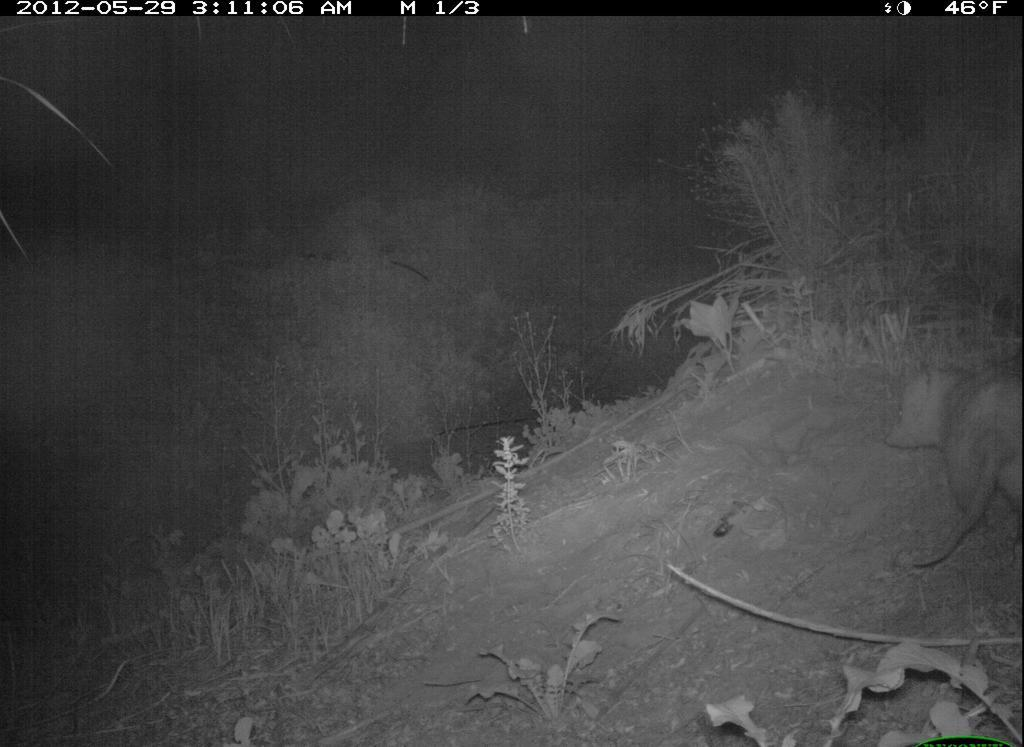opossum: (871, 352, 1024, 579)
